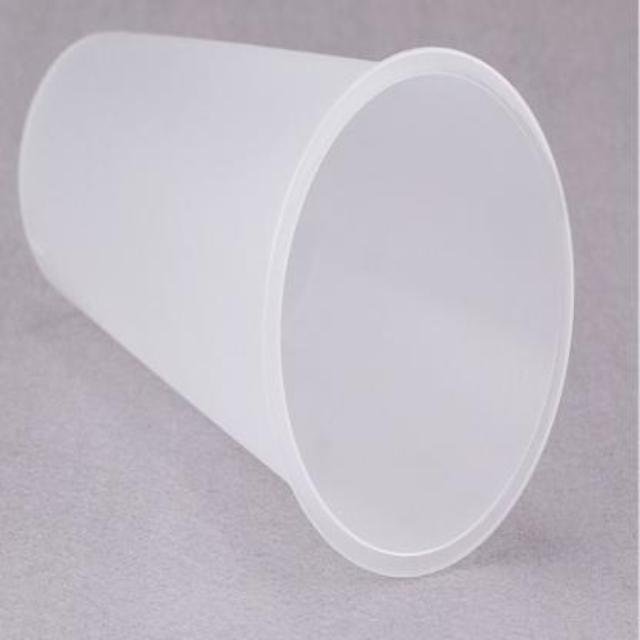plastic_box: (15, 29, 575, 584)
